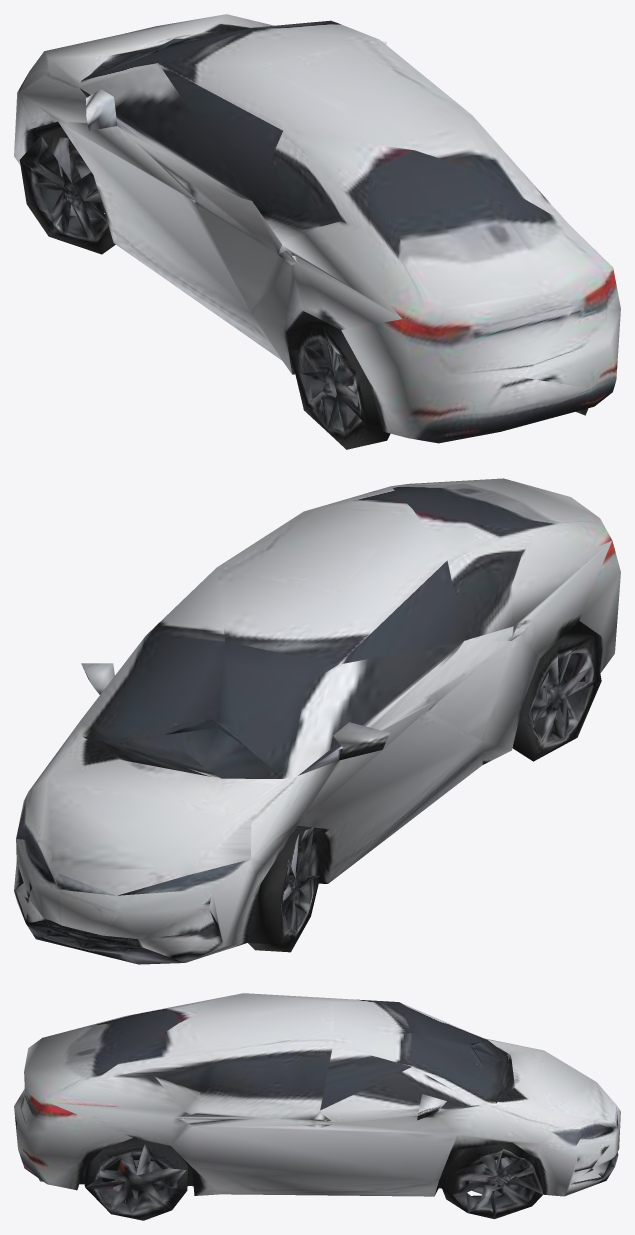
The model's file is sp_car_sedan_far.glb.
3 views of the same model, one above another, from view 1: azimuth 30°, elevation 25°; view 2: azimuth 150°, elevation 25°; view 3: azimuth 270°, elevation 25° (orthographic). The views are drawn at different scales.
Visible parts, largest first — view 1: tripo_node_2cc27c2d-ff05-41fa-afce-9172833e8602; view 2: tripo_node_2cc27c2d-ff05-41fa-afce-9172833e8602; view 3: tripo_node_2cc27c2d-ff05-41fa-afce-9172833e8602.
Boxes of the visible parts, box(x1,y1,x2,y2) form: tripo_node_2cc27c2d-ff05-41fa-afce-9172833e8602: box(14, 14, 620, 449); tripo_node_2cc27c2d-ff05-41fa-afce-9172833e8602: box(14, 478, 620, 964); tripo_node_2cc27c2d-ff05-41fa-afce-9172833e8602: box(14, 993, 620, 1220).
Size of the model in its own units: 1.87 by 1.47 by 4.85.
Materials: 1 (1 with a texture image).
